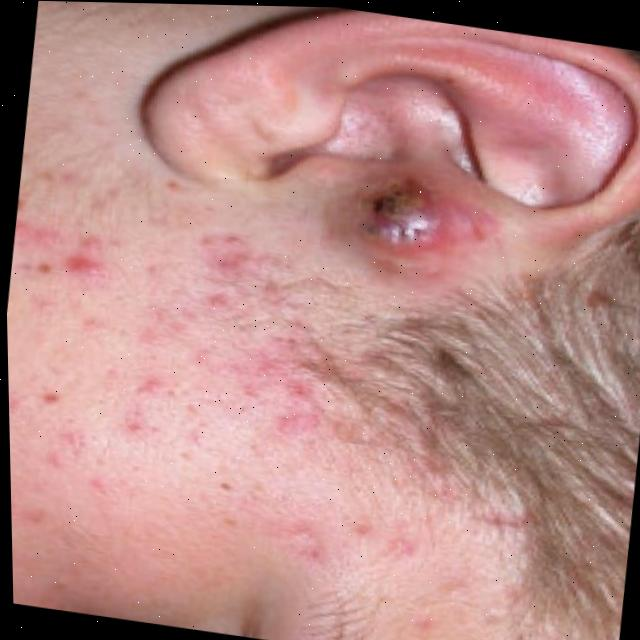Acne: (6, 291, 381, 527), (374, 197, 446, 262)
